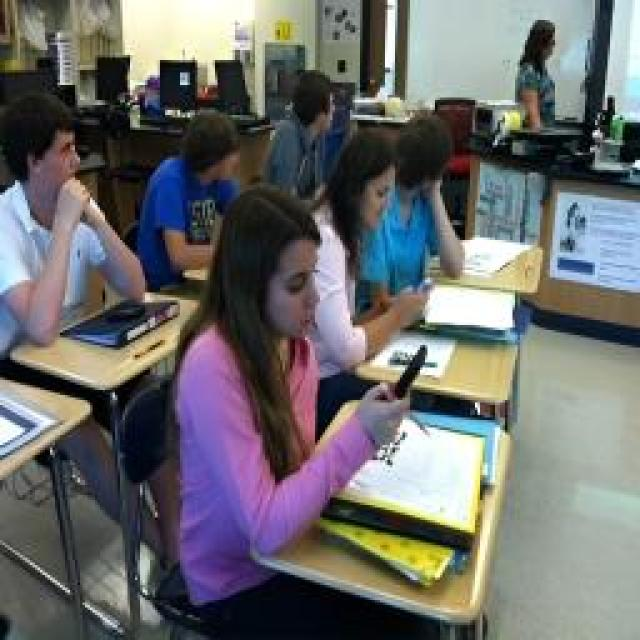phone: (175, 185, 427, 547), (308, 130, 430, 378)
study: (0, 92, 148, 352), (138, 112, 242, 278), (378, 110, 462, 305), (265, 62, 337, 202)
